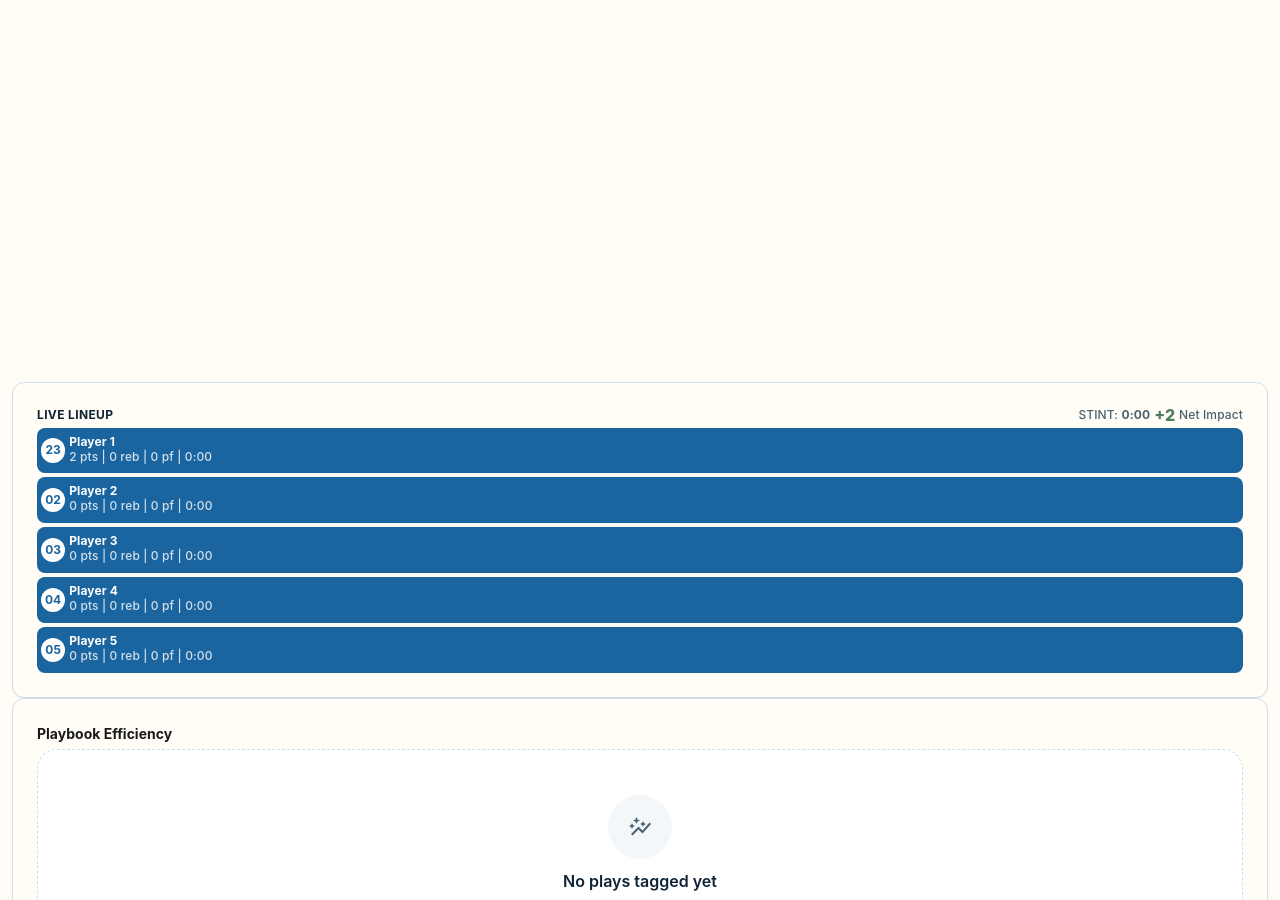
Test: GameMode Component › tapping a sidebar slot opens Quick Sub dialog
The image size is (1280, 900).
(page scrolled)
Click the button "23 Player 1 2 pts | 0 reb | 0 pf | 0:00".
click(92, 441)  # box [37,428,1243,473]
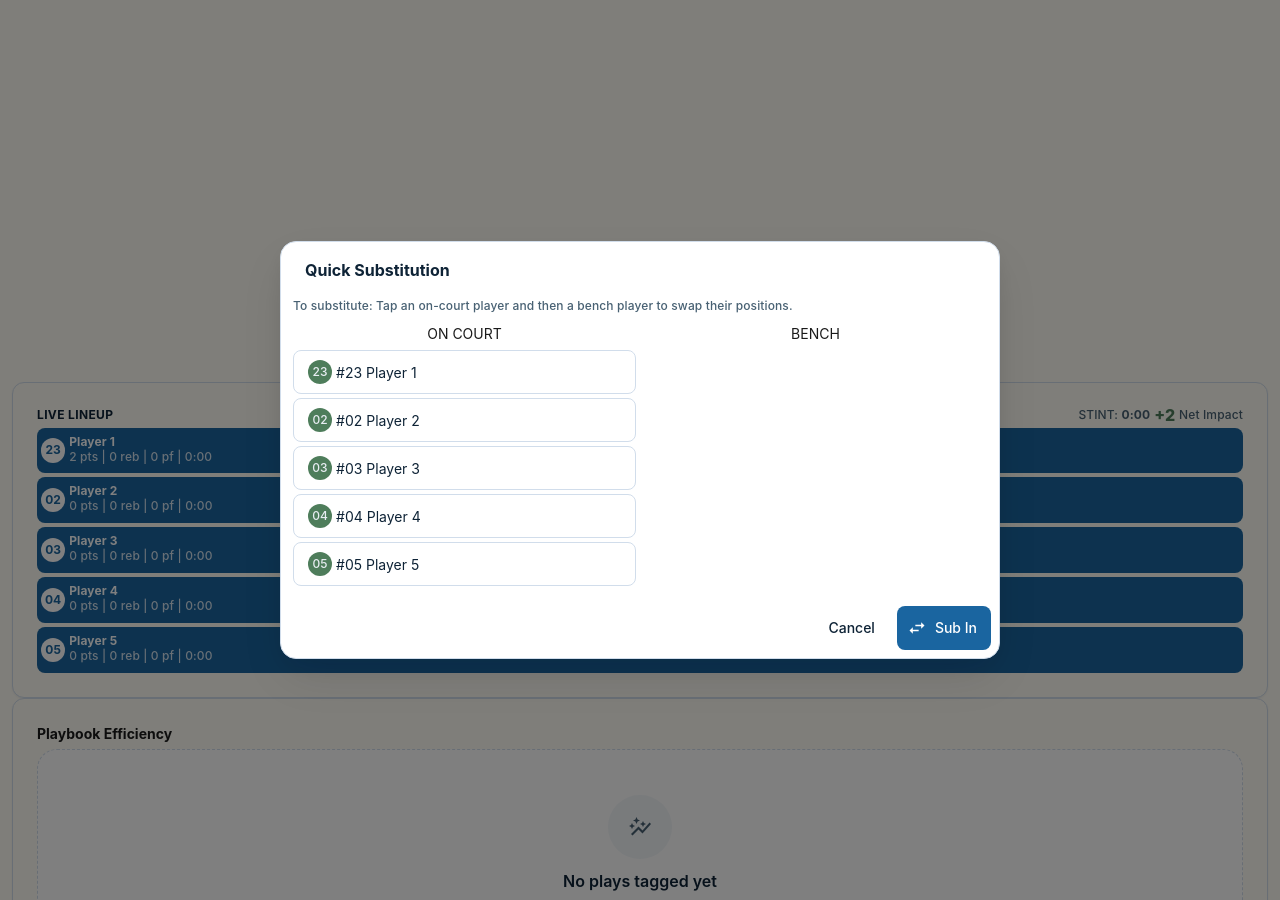
Check: the heading "Quick Substitution" is shown, box [305,260,450,280]
Check: the button "23 #23 Player 1" is shown, box [293,350,636,394]
